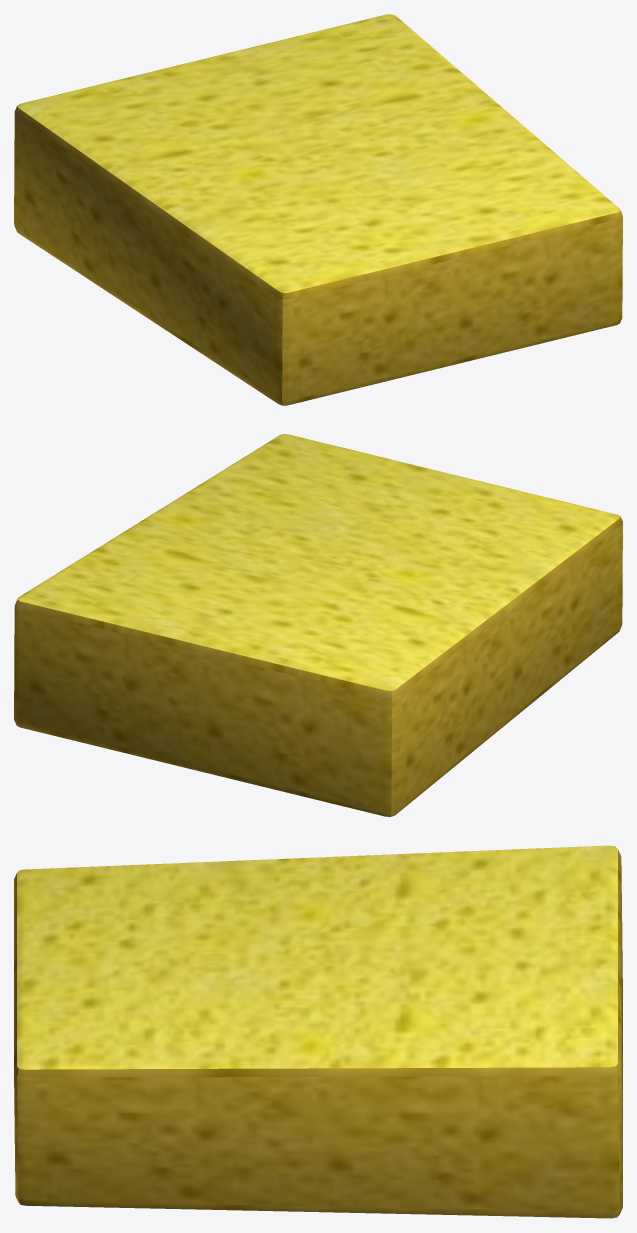
The model's file is dry sponge.fbx.
3 views of the same model, one above another, from view 1: azimuth 30°, elevation 25°; view 2: azimuth 150°, elevation 25°; view 3: azimuth 270°, elevation 25° (orthographic). The views are drawn at different scales.
Visible parts, largest first — view 1: Object_0.012; view 2: Object_0.012; view 3: Object_0.012.
Boxes of the visible parts, x1=… form: Object_0.012: x1=14, y1=14, x2=622, y2=405; Object_0.012: x1=14, y1=434, x2=622, y2=816; Object_0.012: x1=14, y1=845, x2=622, y2=1218.
Bounding box in the file's own units: 7025 × 2293 × 8044.
1 material, 1 textured.
